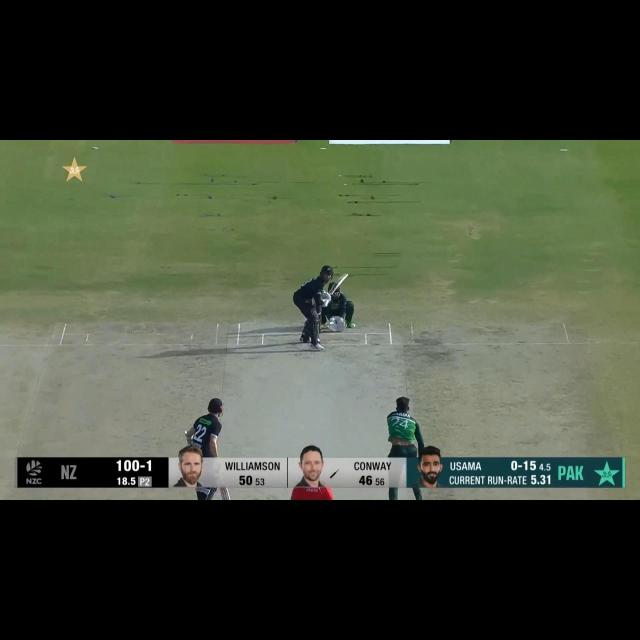bat: (328, 271, 351, 296), (218, 485, 232, 501)
toe: (337, 270, 355, 282), (222, 495, 234, 501)
